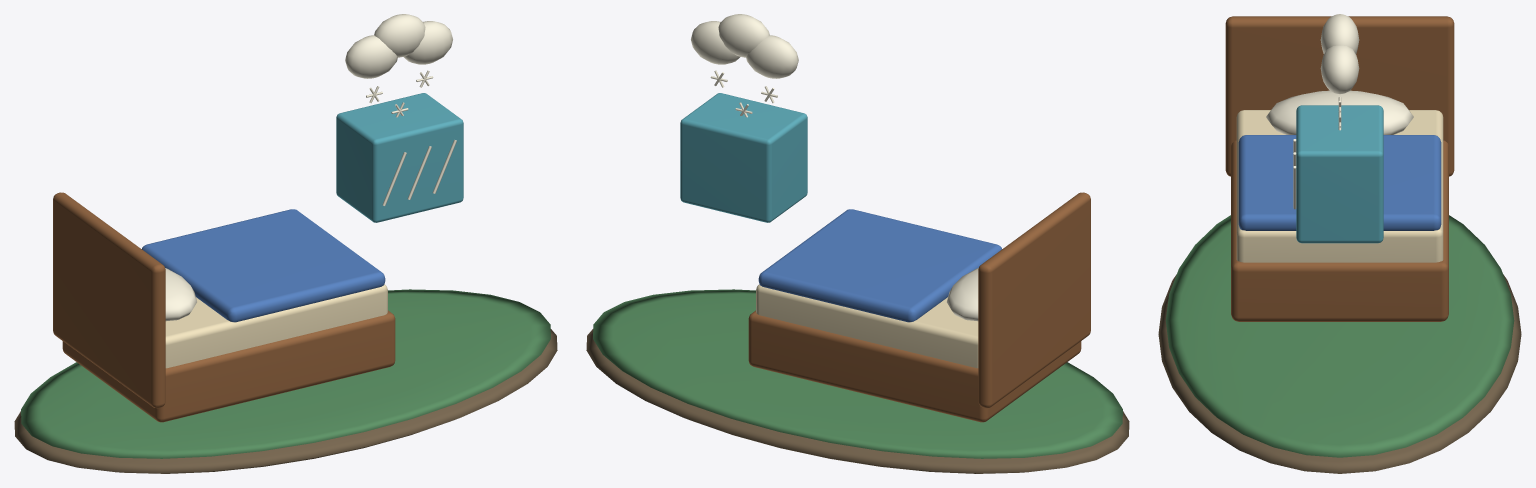
The model's file is winter-ache.glb.
The picture shows the model from 3 angles, left to right: view 1: azimuth 30°, elevation 25°; view 2: azimuth 150°, elevation 25°; view 3: azimuth 270°, elevation 25°; orthographic projection. The views are drawn at different scales.
Parts seen in each view (by area): view 1: winter-ache_surface_01, winter-ache_surface_02, winter-ache_surface_04, winter-ache_surface_06, winter-ache_surface_00, winter-ache_surface_03, winter-ache_surface_05; view 2: winter-ache_surface_01, winter-ache_surface_02, winter-ache_surface_04, winter-ache_surface_06, winter-ache_surface_00, winter-ache_surface_03, winter-ache_surface_05; view 3: winter-ache_surface_01, winter-ache_surface_02, winter-ache_surface_06, winter-ache_surface_04, winter-ache_surface_03, winter-ache_surface_00, winter-ache_surface_05.
Part boxes in pixels (x1,y1,x2,y2): winter-ache_surface_01: [21, 289, 550, 458]; winter-ache_surface_02: [53, 192, 395, 422]; winter-ache_surface_04: [142, 209, 385, 322]; winter-ache_surface_06: [336, 93, 463, 222]; winter-ache_surface_00: [14, 329, 557, 473]; winter-ache_surface_03: [165, 284, 387, 368]; winter-ache_surface_05: [165, 14, 456, 321]; winter-ache_surface_01: [593, 289, 1122, 458]; winter-ache_surface_02: [748, 192, 1090, 422]; winter-ache_surface_04: [758, 209, 1001, 322]; winter-ache_surface_06: [680, 93, 807, 222]; winter-ache_surface_00: [586, 329, 1129, 473]; winter-ache_surface_03: [756, 284, 978, 368]; winter-ache_surface_05: [691, 14, 978, 321]; winter-ache_surface_01: [1165, 215, 1514, 457]; winter-ache_surface_02: [1225, 16, 1454, 321]; winter-ache_surface_06: [1296, 105, 1383, 243]; winter-ache_surface_04: [1238, 135, 1441, 230]; winter-ache_surface_03: [1236, 110, 1443, 262]; winter-ache_surface_00: [1158, 274, 1521, 473]; winter-ache_surface_05: [1266, 14, 1413, 209].
Bounding box in the file's own units: 4.56 × 3 × 2.5.
